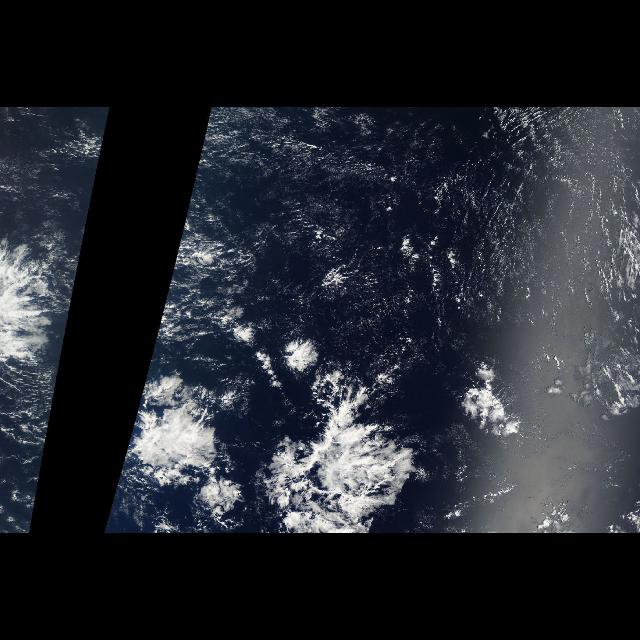Flower: (102, 228, 458, 532), (5, 228, 86, 532)
Sugar: (212, 108, 640, 368)
